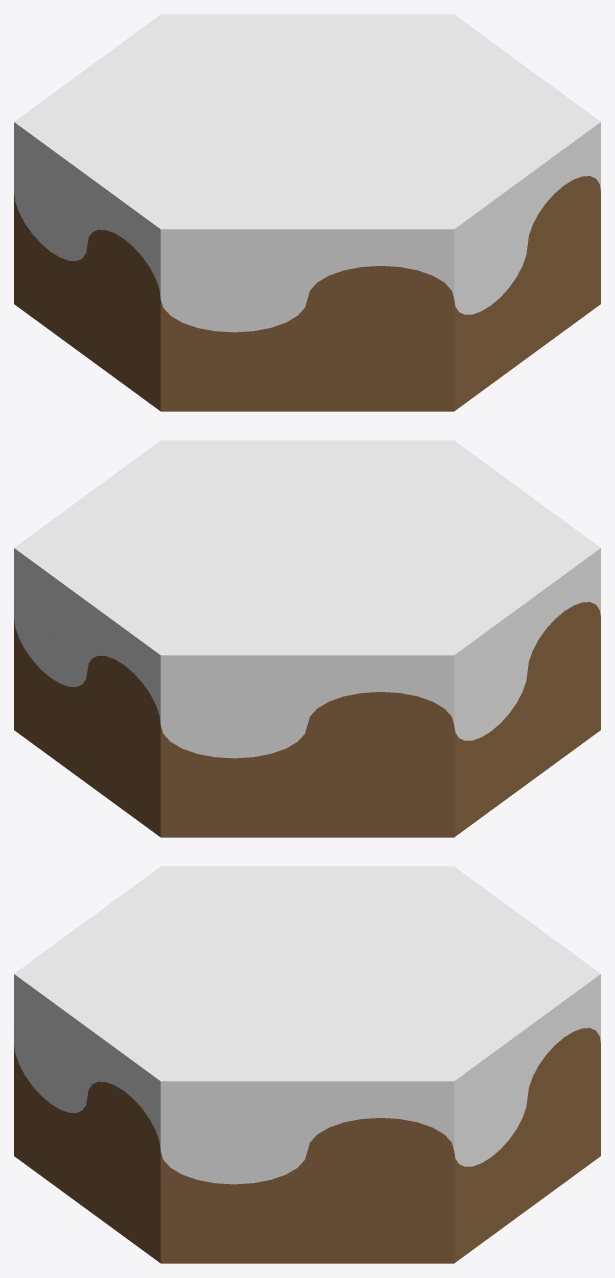
The model's file is RPG_Tiles_Hex_Dirt_Covered_03.FBX.
The picture shows the model from 3 angles, top to bottom: view 1: azimuth 30°, elevation 25°; view 2: azimuth 150°, elevation 25°; view 3: azimuth 270°, elevation 25°; orthographic projection.
Parts seen in each view (by area): view 1: RPG_Tiles_Hex_Dirt_Covered_03; view 2: RPG_Tiles_Hex_Dirt_Covered_03; view 3: RPG_Tiles_Hex_Dirt_Covered_03.
Part boxes in pixels (box(x1,y1,x2,y2)): RPG_Tiles_Hex_Dirt_Covered_03: box(14, 14, 600, 411); RPG_Tiles_Hex_Dirt_Covered_03: box(14, 440, 600, 837); RPG_Tiles_Hex_Dirt_Covered_03: box(14, 866, 600, 1263).
Bounding box in the file's own units: 3000 × 1186 × 3464.
